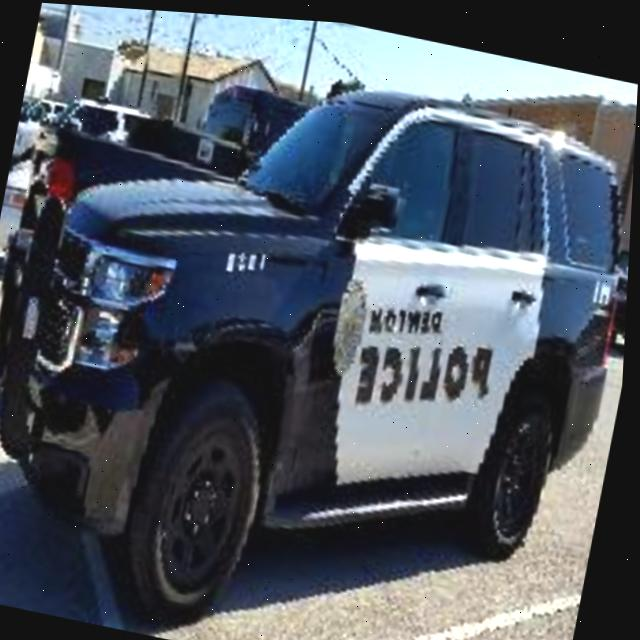emergency: (0, 23, 639, 640)
